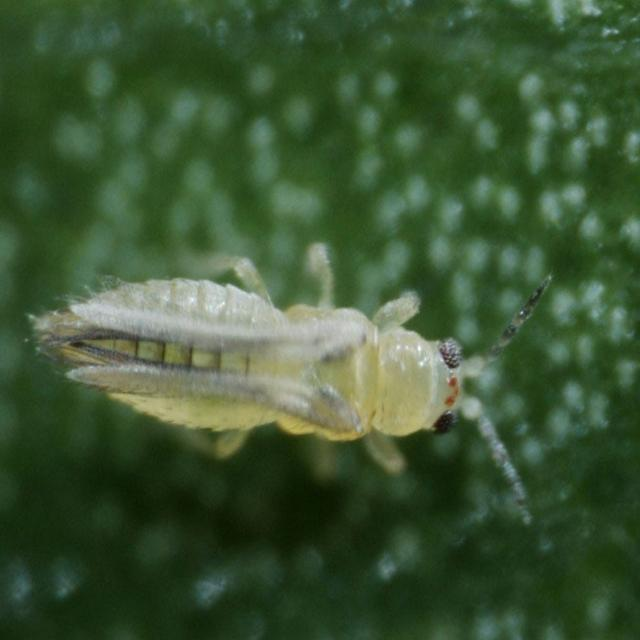Thrip-Adult-: (28, 231, 571, 524)
